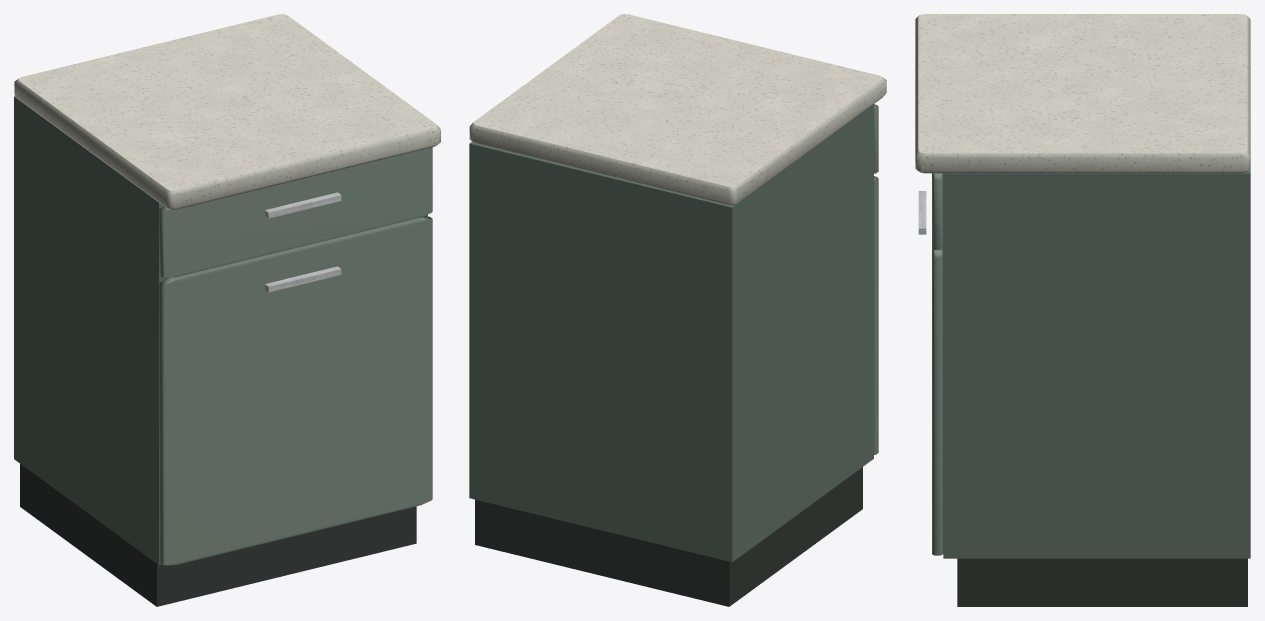
The model's file is kitchen_base_cabinet.glb.
The picture shows the model from 3 angles, left to right: view 1: azimuth 30°, elevation 25°; view 2: azimuth 150°, elevation 25°; view 3: azimuth 270°, elevation 25°; orthographic projection. The views are drawn at different scales.
Visible parts, largest first — view 1: kitchen_base_cabinet; view 2: kitchen_base_cabinet; view 3: kitchen_base_cabinet.
Boxes of the visible parts, x1,y1,x2,y2 form: kitchen_base_cabinet: [14, 14, 440, 606]; kitchen_base_cabinet: [469, 14, 886, 606]; kitchen_base_cabinet: [915, 14, 1250, 606].
Bounding box in the file's own units: 0.6 × 0.9 × 0.6.
Materials: 3 (2 with a texture image).
